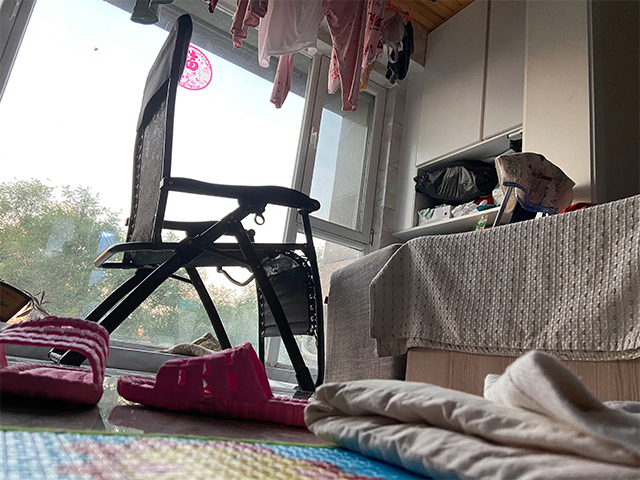slippers: (116, 338, 311, 427), (1, 314, 110, 408)
sofa: (368, 193, 640, 403)
stool: (47, 12, 326, 393)
